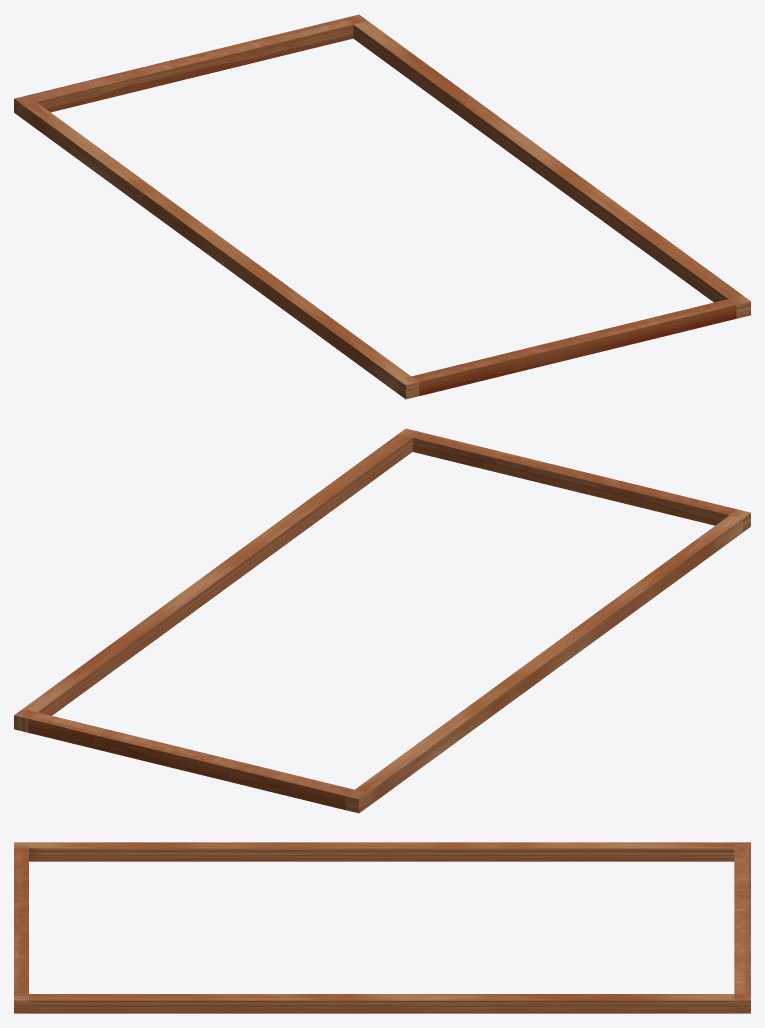
File: border.obj
The picture shows the model from 3 angles, top to bottom: view 1: azimuth 30°, elevation 25°; view 2: azimuth 150°, elevation 25°; view 3: azimuth 270°, elevation 25°; orthographic projection. The views are drawn at different scales.
Visible parts, largest first — view 1: Cube_Cube.002; view 2: Cube_Cube.002; view 3: Cube_Cube.002.
Part boxes in pixels (left/top/right/bottom): Cube_Cube.002: left=14, top=14, right=750, bottom=399; Cube_Cube.002: left=14, top=428, right=750, bottom=813; Cube_Cube.002: left=14, top=842, right=750, bottom=1013.
Bounding box in the file's own units: 8.76 × 0.34 × 17.22.
1 material, 1 textured.
